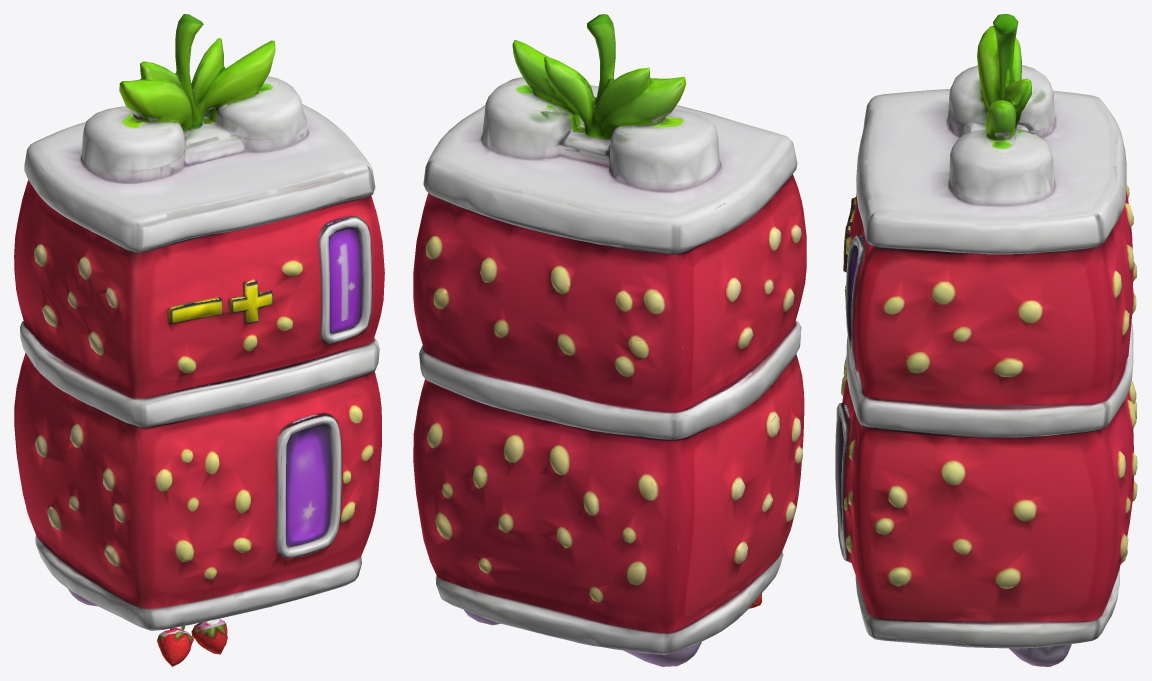
File: Meshy_AI_Strawberry_Powerhouse_0115080059_texture.fbx
3 renders of one model, left to right at view 1: azimuth 30°, elevation 25°; view 2: azimuth 150°, elevation 25°; view 3: azimuth 270°, elevation 25°, orthographic. The views are drawn at different scales.
Visible parts, largest first — view 1: Mesh1.0; view 2: Mesh1.0; view 3: Mesh1.0.
Part boxes in pixels (x1,y1,x2,y2): Mesh1.0: [14, 14, 384, 666]; Mesh1.0: [413, 14, 806, 666]; Mesh1.0: [835, 14, 1137, 666].
Size of the model in its own units: 96.13 by 191 by 84.39.
1 material, 1 textured.
